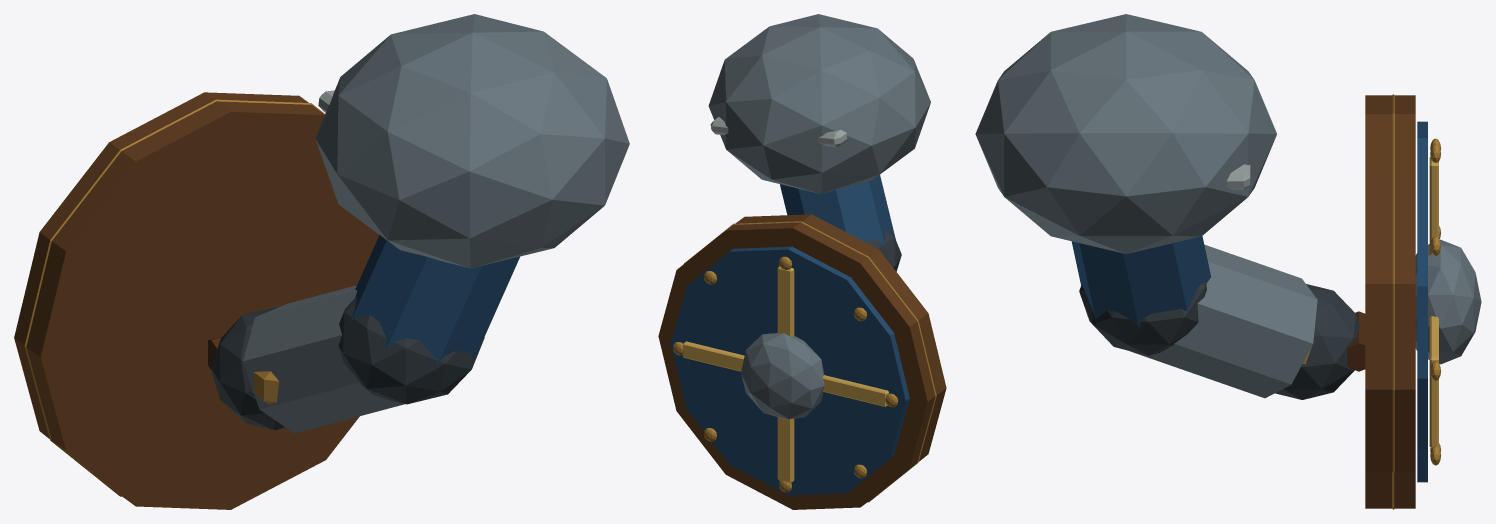
The model's file is ArmLeft.glb.
3 views of the same model, side by side, from view 1: azimuth 30°, elevation 25°; view 2: azimuth 150°, elevation 25°; view 3: azimuth 270°, elevation 25° (orthographic). The views are drawn at different scales.
Parts seen in each view (by area): view 1: Sculpture; view 2: Sculpture; view 3: Sculpture.
Part boxes in pixels (left/top/right/bottom): Sculpture: left=14, top=14, right=629, bottom=509; Sculpture: left=658, top=14, right=946, bottom=509; Sculpture: left=975, top=14, right=1481, bottom=509.
Size of the model in its own units: 0.767 by 0.9 by 0.805.
